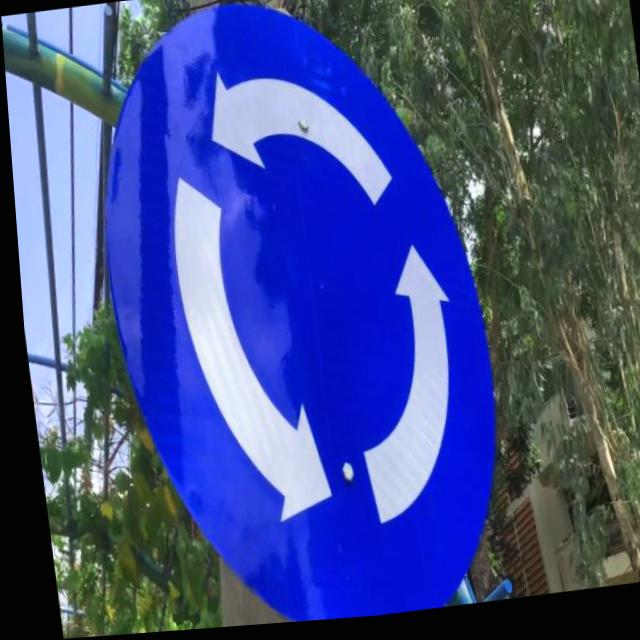Noi giao nhau chay theo vong xuyen: (69, 0, 514, 636)
